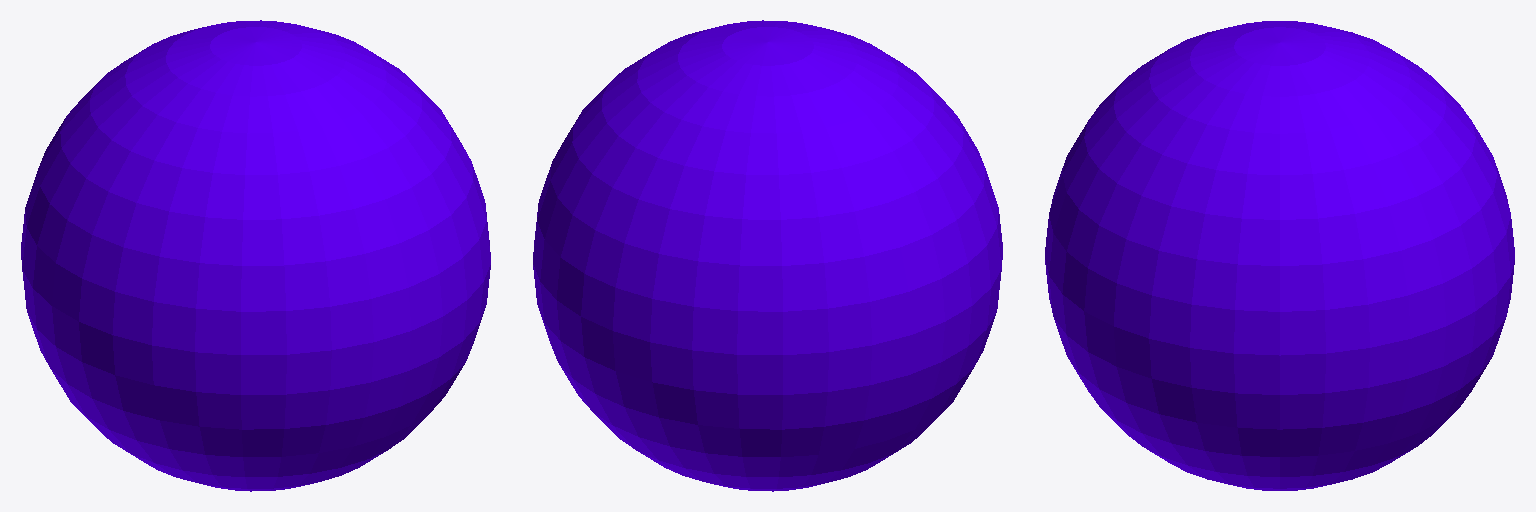
URDF robot description (simple_sphere):
<?xml version="1.0"?>
<robot name="simple_sphere">

  <!-- Define a link named "sphere_link" -->
  <link name="sphere_link">
  
    <!-- Define the inertial properties of the sphere -->
    <inertial>
      <origin xyz="0 0 0" rpy="0 0 0"/>
      <mass value="0.1"/>
      <inertia ixx="2e-5" ixy="0" ixz="0" iyy="2e-5" iyz="0" izz="2e-5"/>
    </inertial>

    <!-- Define the visual properties of the sphere -->
    <visual>
      <origin xyz="0 0 0" rpy="0 0 0"/>
      <geometry>
        <sphere radius="0.01"/>
      </geometry>
      <material name="purple">
        <color rgba="0.4 0 1 1"/>
      </material>
    </visual>

    <!-- Define the collision properties of the sphere -->
    <collision>
      <origin xyz="0 0 0" rpy="0 0 0"/>
      <geometry>
        <sphere radius="0.01"/>
      </geometry>
    </collision>
    
  </link>

</robot>

--- Render facts (derived) ---
3 views of the same robot in one strip: view 1: azimuth 30°, elevation 25°; view 2: azimuth 150°, elevation 25°; view 3: azimuth 270°, elevation 25° (orthographic).
Robot: simple_sphere — 1 links, 0 joints (none); root link sphere_link; default pose: all joints at 0.
Visible links, largest first — view 1: sphere_link; view 2: sphere_link; view 3: sphere_link.
Boxes of the visible links, bbox=[...] form: sphere_link: bbox=[21, 20, 490, 491]; sphere_link: bbox=[533, 20, 1002, 491]; sphere_link: bbox=[1045, 21, 1514, 490].
Size in the robot's own frame: 0.02 by 0.02 by 0.02 metres.
Geometry: primitives only (box / cylinder / sphere), no mesh files.